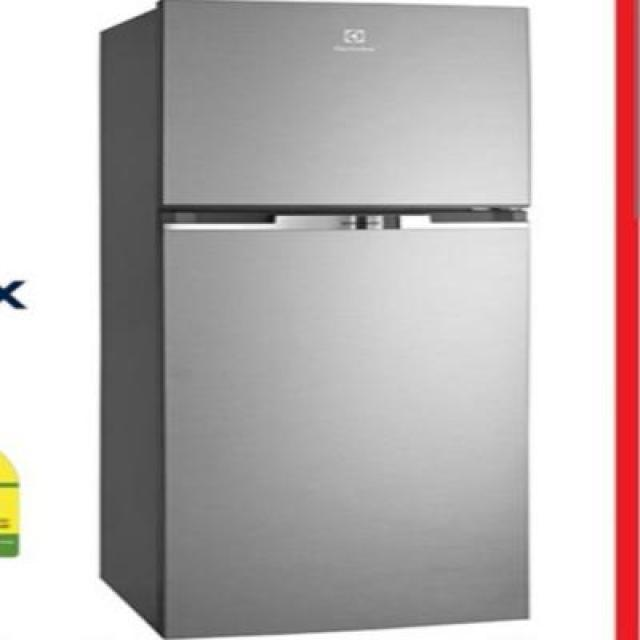refrigerator: (100, 0, 529, 640)
